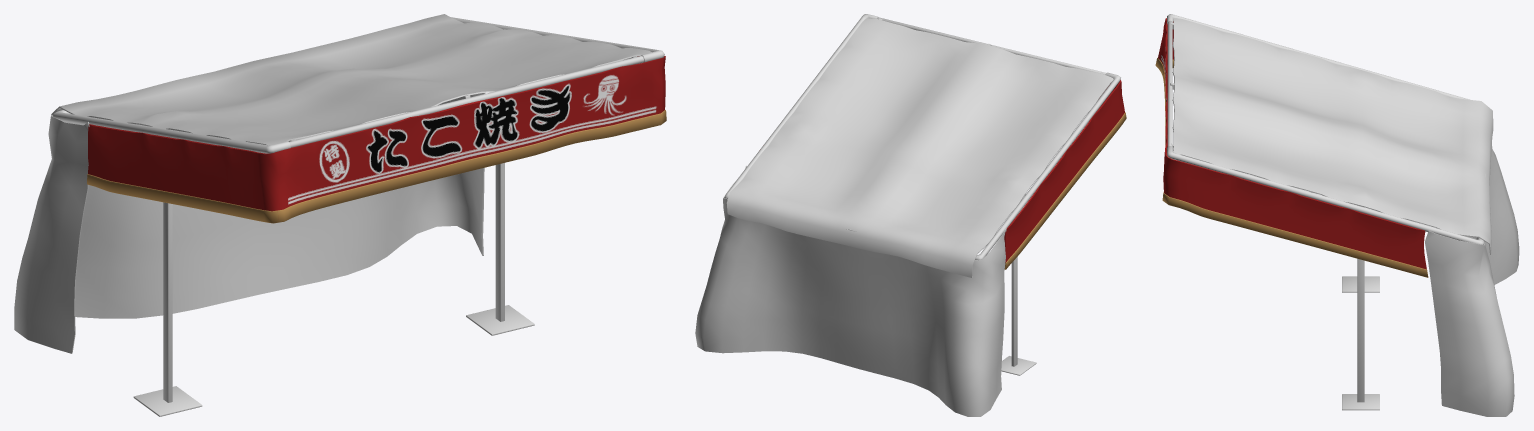
File: Stall.fbx
3 renders of one model, left to right at view 1: azimuth 30°, elevation 25°; view 2: azimuth 150°, elevation 25°; view 3: azimuth 270°, elevation 25°, orthographic. The views are drawn at different scales.
Visible parts, largest first — view 1: Stall; view 2: Stall; view 3: Stall.
Boxes of the visible parts, x1,y1,x2,y2 form: Stall: (14,14,666,416); Stall: (695,14,1126,416); Stall: (1155,14,1519,416).
Bounding box in the file's own units: 3.82 × 2.95 × 3.72.
